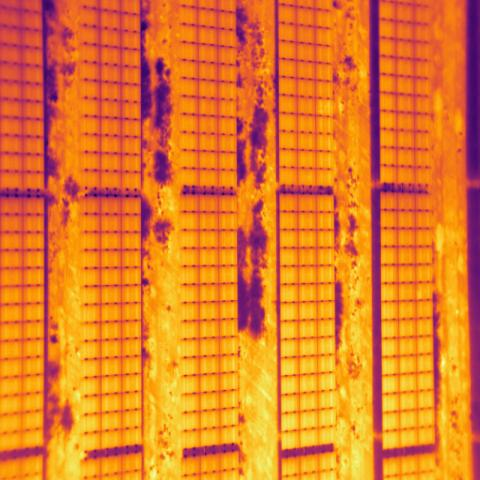fault: (314, 98, 332, 115)
